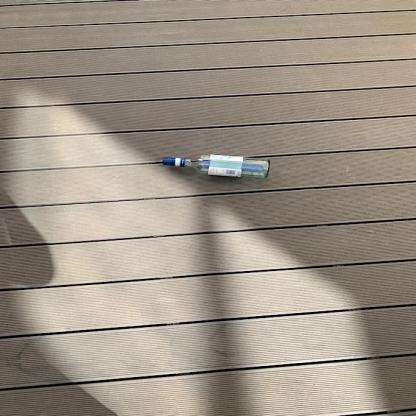trash: (161, 150, 270, 181)
